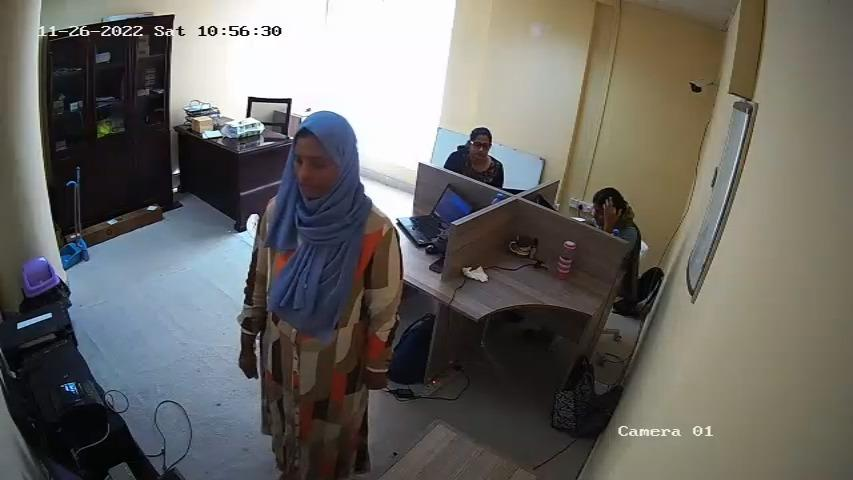no_apron: (267, 212, 361, 452), (383, 253, 383, 254)
